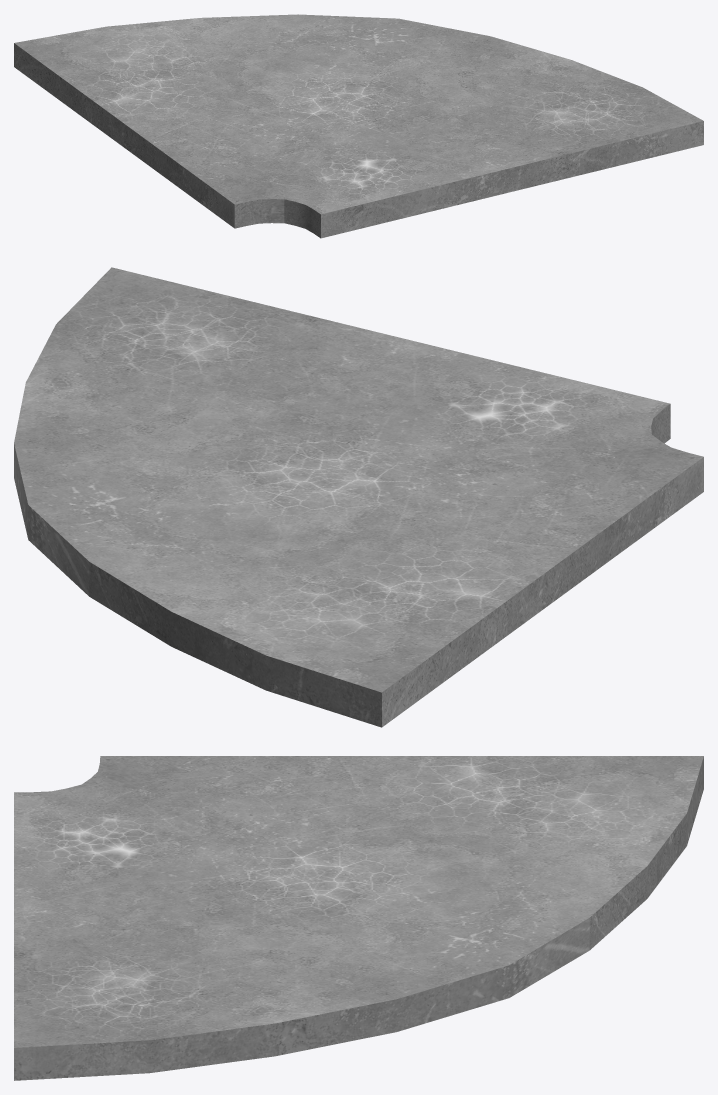
Rendered from Sidewalk_SmallCurve.fbx.
3 views of the same model, one above another, from view 1: azimuth 30°, elevation 25°; view 2: azimuth 150°, elevation 25°; view 3: azimuth 270°, elevation 25° (orthographic). The views are drawn at different scales.
Parts seen in each view (by area): view 1: Sidewalk_smallCurve; view 2: Sidewalk_smallCurve; view 3: Sidewalk_smallCurve.
Part boxes in pixels (bbox=[...]): Sidewalk_smallCurve: bbox=[14, 14, 703, 238]; Sidewalk_smallCurve: bbox=[14, 267, 703, 727]; Sidewalk_smallCurve: bbox=[14, 756, 703, 1080].
Size of the model in its own units: 1.74 by 0.0914 by 1.74.
